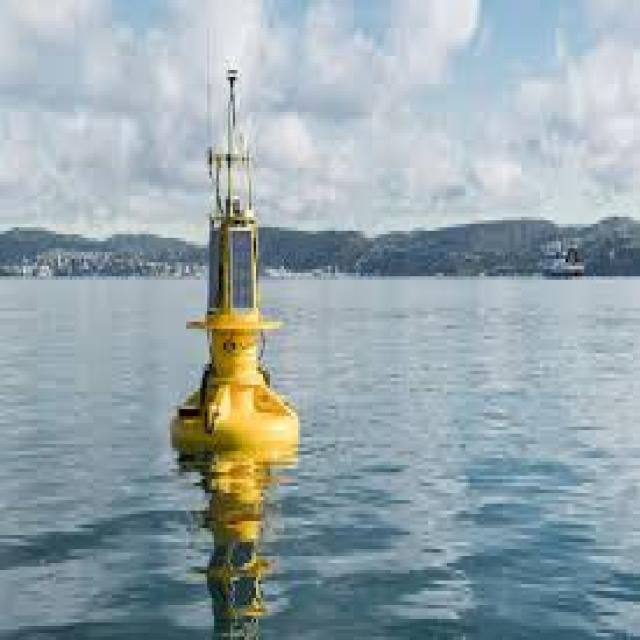buoy: (156, 29, 316, 491)
